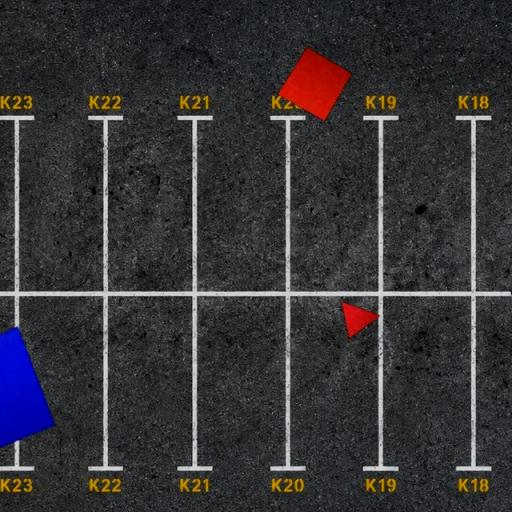BLUE_SQUARE: (0, 326, 56, 466)
RED_SQUARE: (277, 46, 353, 122)
